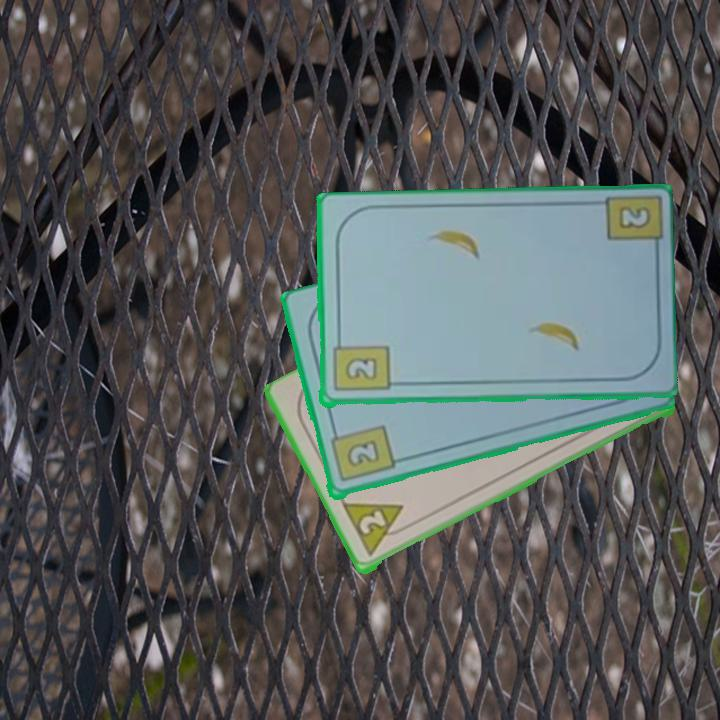2b: (326, 422, 397, 486), (329, 333, 391, 395), (614, 202, 654, 232)
2p: (339, 499, 414, 560)
